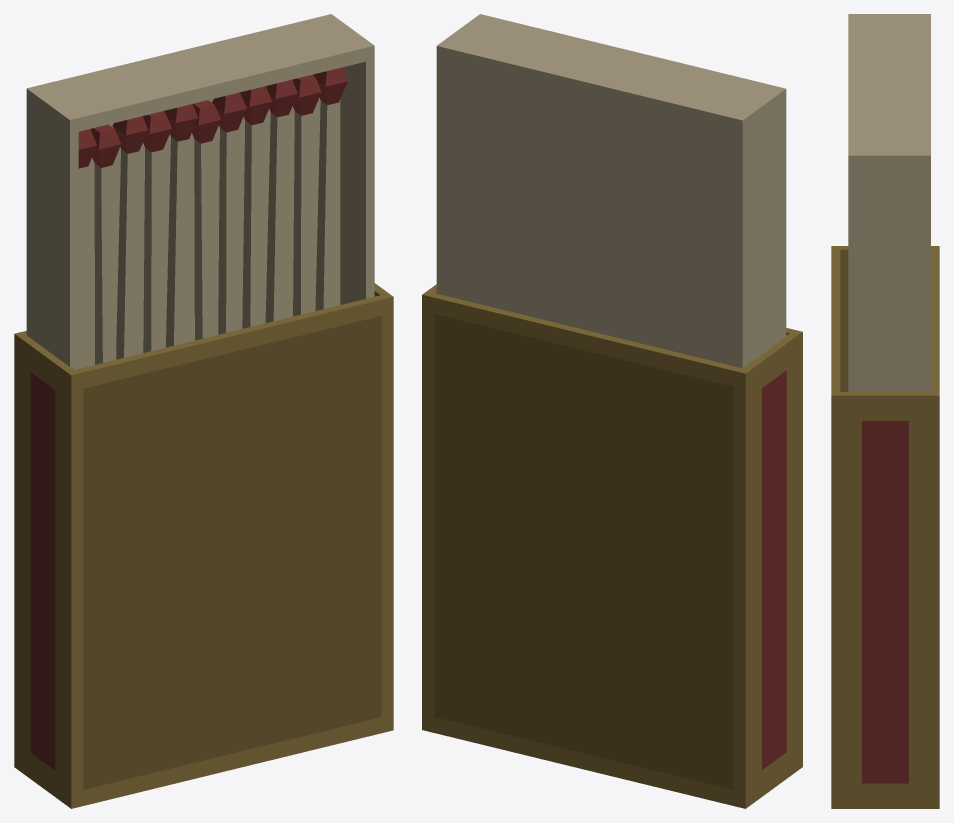
File: Matchbox.glb
3 renders of one model, left to right at view 1: azimuth 30°, elevation 25°; view 2: azimuth 150°, elevation 25°; view 3: azimuth 270°, elevation 25°, orthographic. The views are drawn at different scales.
Parts seen in each view (by area): view 1: Matchbox; view 2: Matchbox; view 3: Matchbox.
Part boxes in pixels (x1=…): Matchbox: x1=14, y1=14, x2=393, y2=808; Matchbox: x1=422, y1=14, x2=802, y2=808; Matchbox: x1=831, y1=14, x2=939, y2=808.
Size of the model in its own units: 0.5397 by 1.09 by 0.1653.
